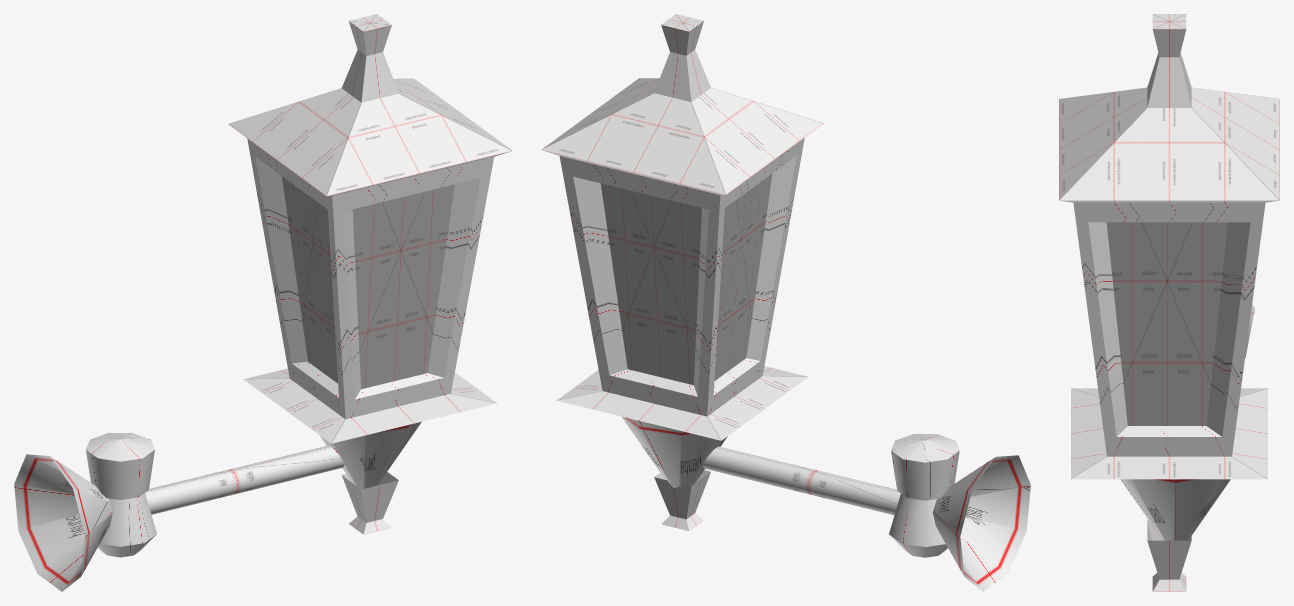
File: d_lamppost_1x_susp_a.FBX
The picture shows the model from 3 angles, left to right: view 1: azimuth 30°, elevation 25°; view 2: azimuth 150°, elevation 25°; view 3: azimuth 270°, elevation 25°; orthographic projection. The views are drawn at different scales.
Parts seen in each view (by area): view 1: Object193; view 2: Object193; view 3: Object193.
Boxes of the visible parts, x1,y1,x2,y2 form: Object193: (14,14,512,591); Object193: (541,14,1030,591); Object193: (1059,14,1279,591).
Bounding box in the file's own units: 2.32 × 0.9673 × 2.72.
